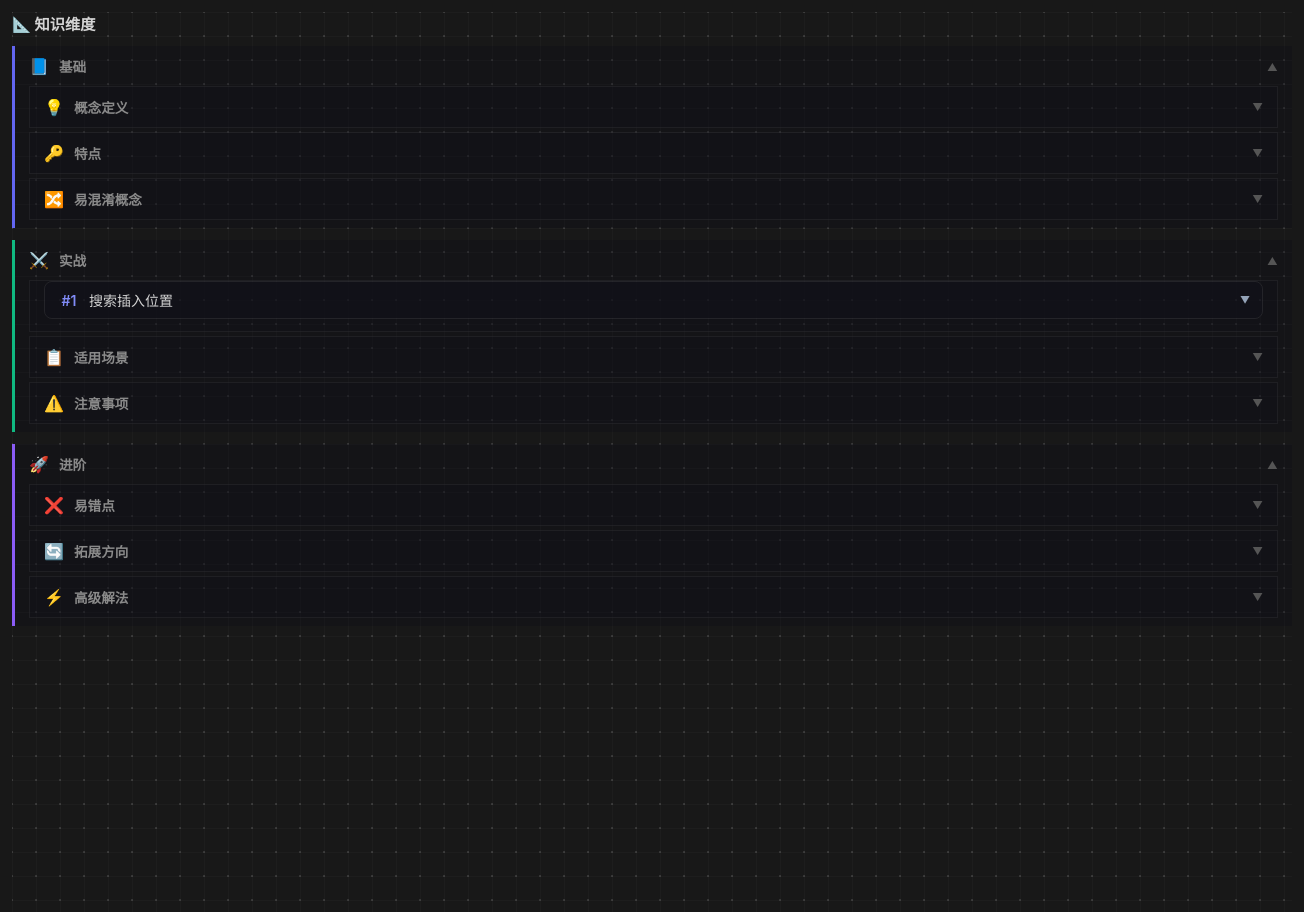
Test: DimensionSection › clicking a dimension header toggles its content visibility
// Click to expand
Click the button "💡 概念定义 ▼": click(101, 108) [30,87,1277,127]
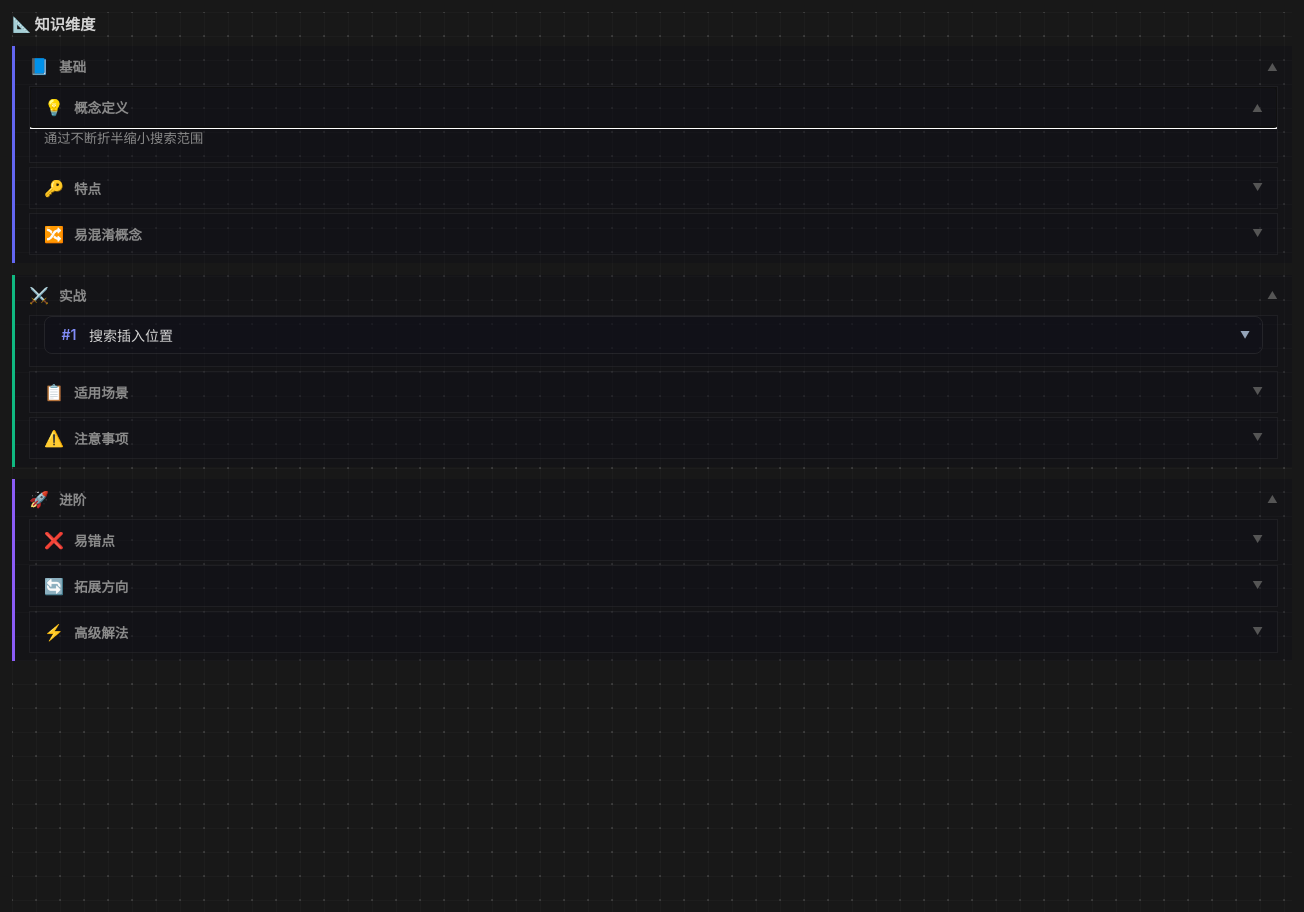
Expected: the text "通过不断折半缩小搜索范围" is shown, [44,130,203,146]
// Click to collapse
Click the button "💡 概念定义 ▼": click(101, 108) [30,87,1277,127]
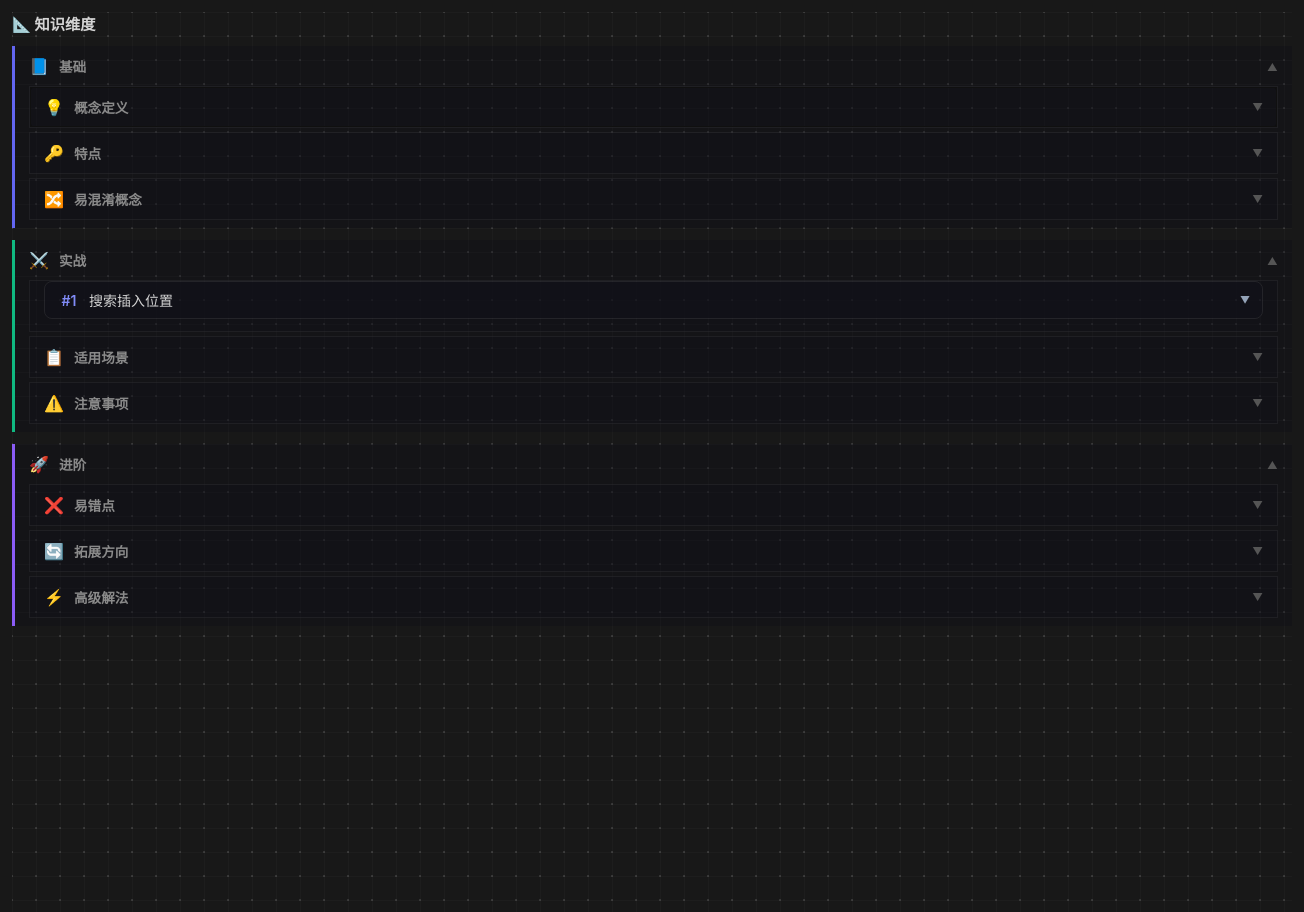
Expected: the text "通过不断折半缩小搜索范围" is gone
